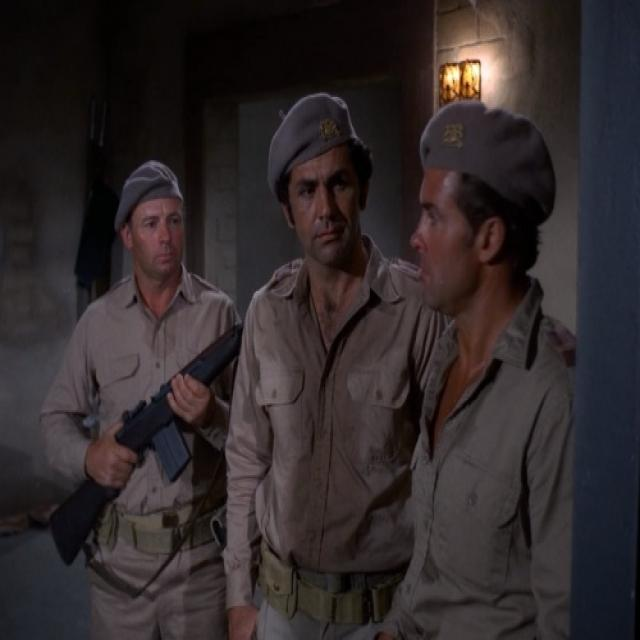rifle: (43, 320, 248, 568)
